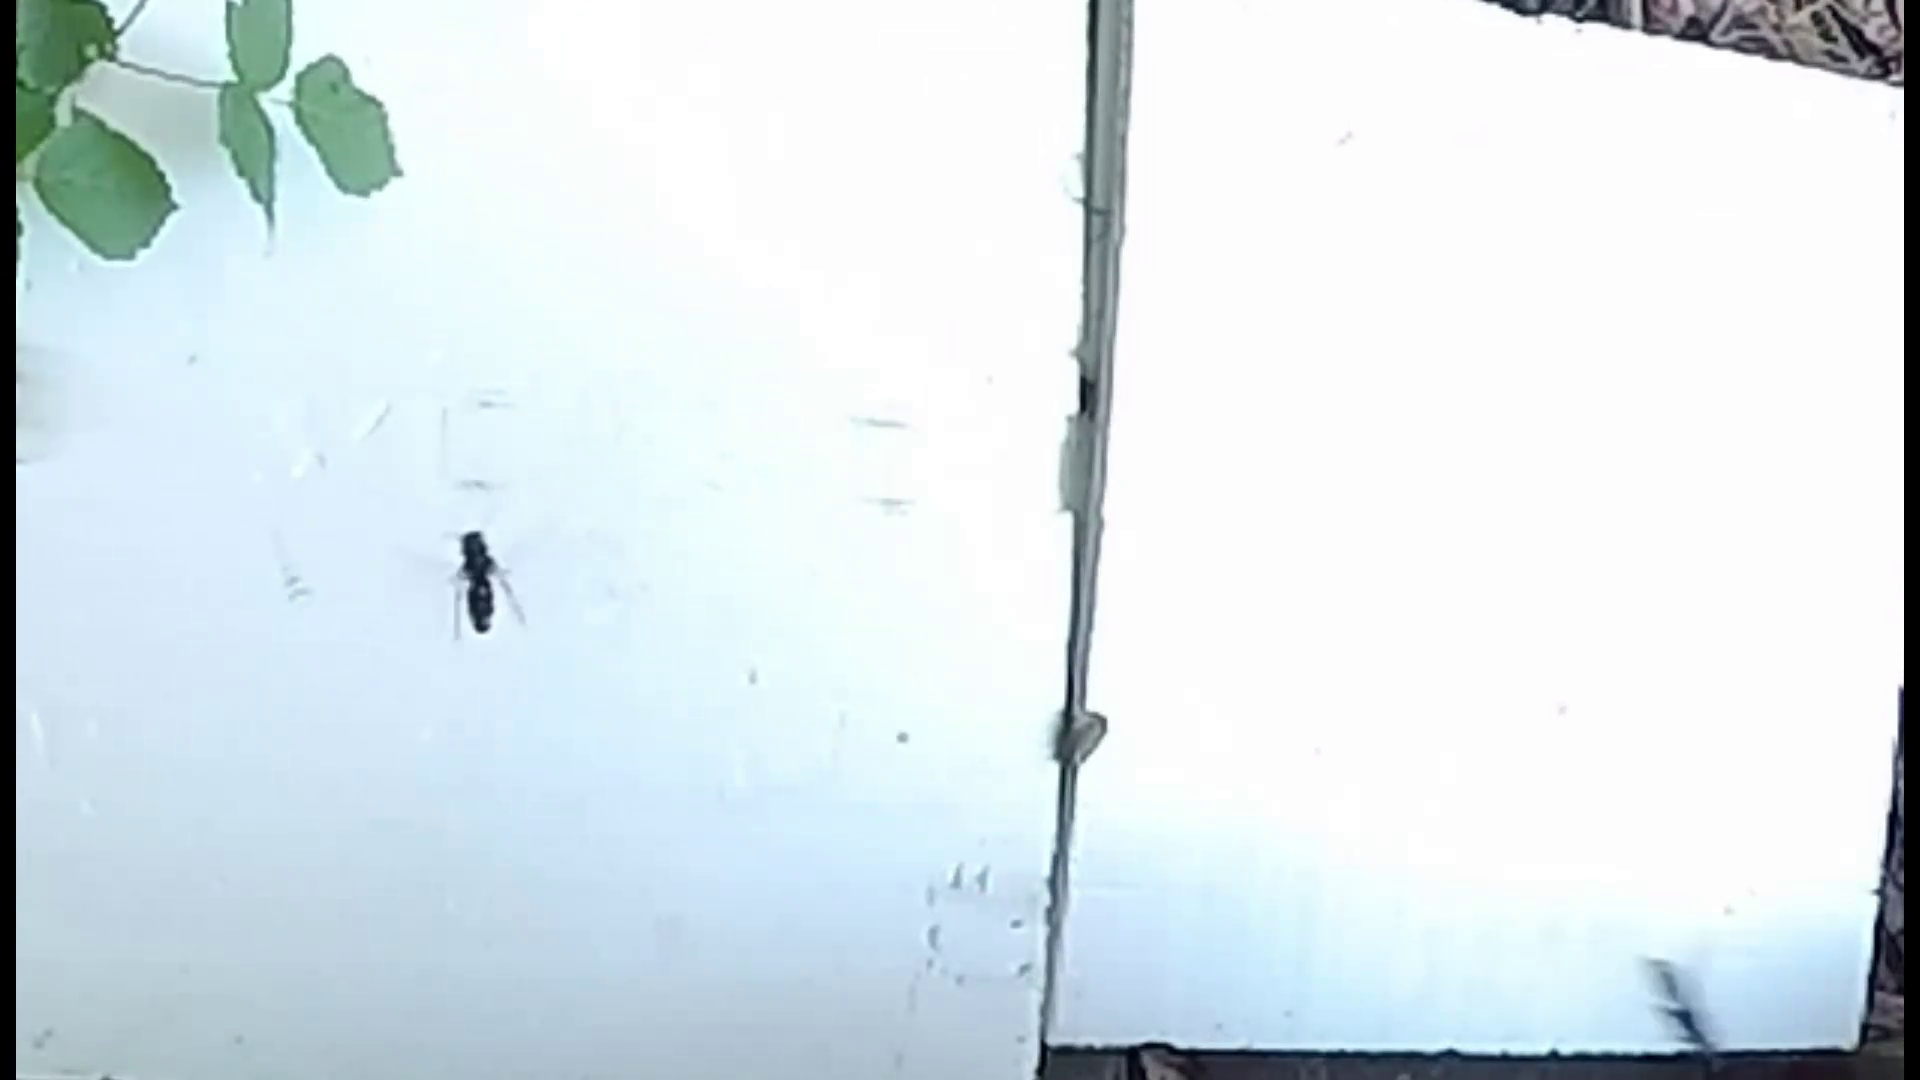Asian_hornets: (419, 509, 543, 653)
